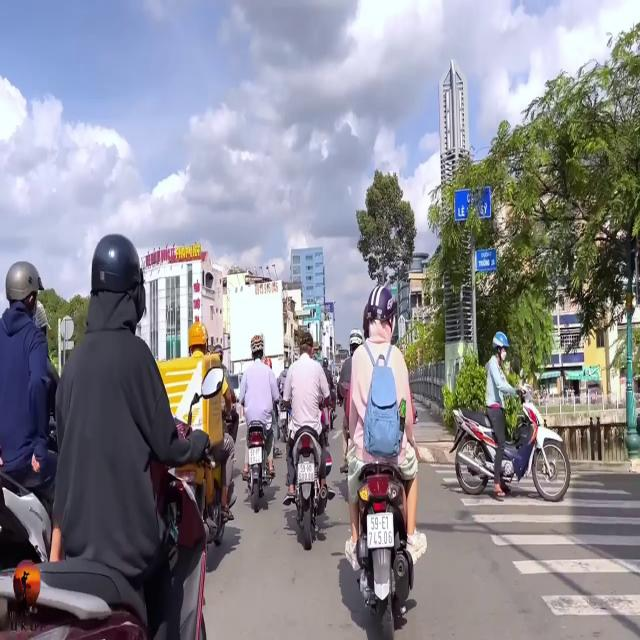bien_trang: (364, 513, 396, 549), (298, 460, 318, 486)
